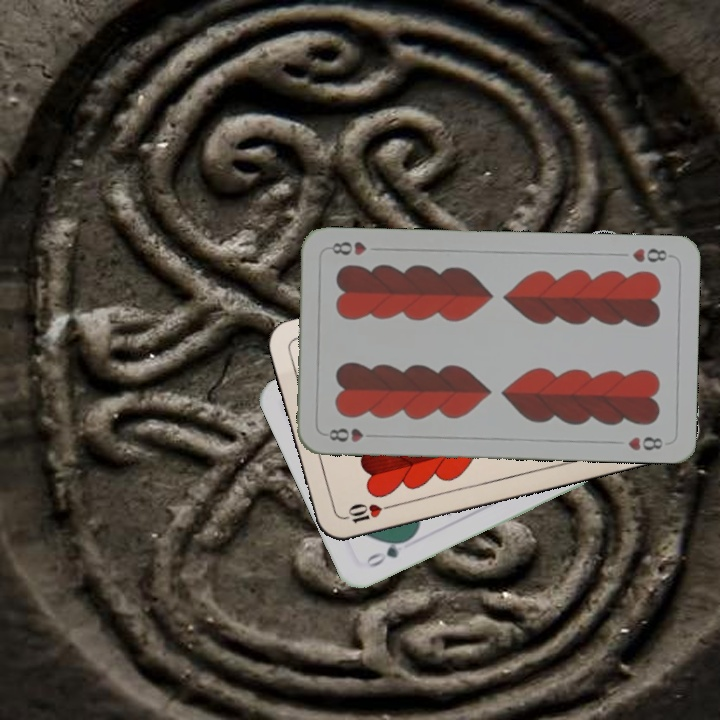GO: (360, 533, 414, 570)
H10: (337, 500, 396, 526)
H8: (628, 244, 674, 265), (325, 424, 366, 445)
